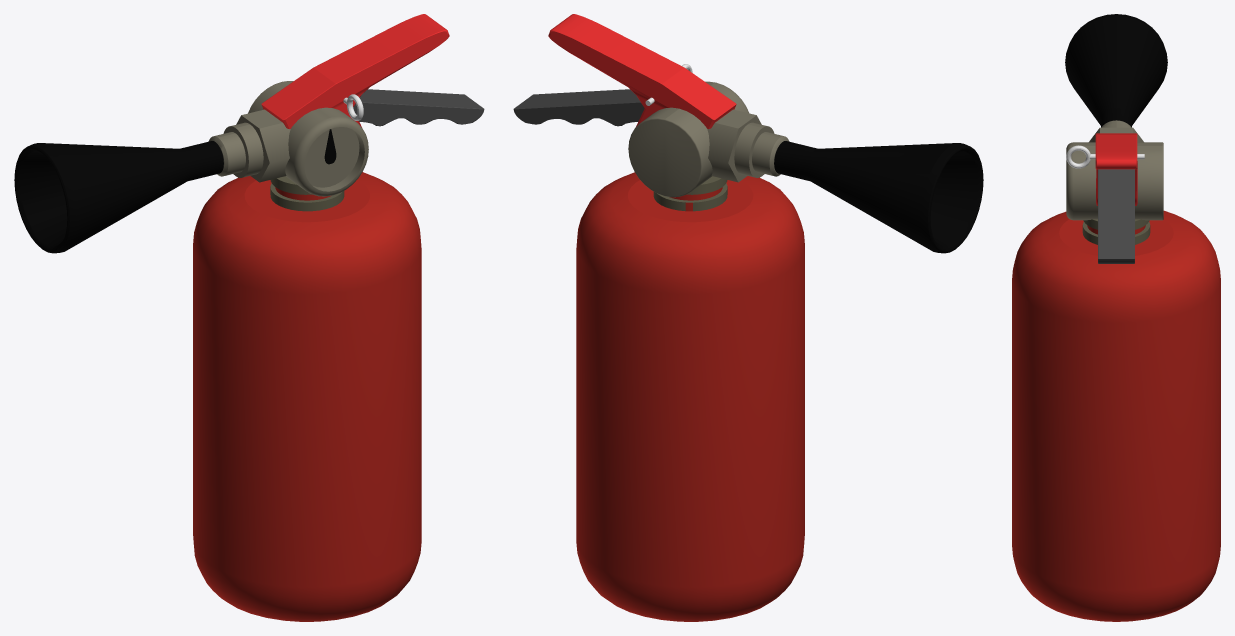
File: extinguisher.fbx
3 views of the same model, side by side, from view 1: azimuth 30°, elevation 25°; view 2: azimuth 150°, elevation 25°; view 3: azimuth 270°, elevation 25° (orthographic). The views are drawn at different scales.
Visible parts, largest first — view 1: Цилиндр.003, Куб.002, Куб.003; view 2: Цилиндр.003, Куб.002, Куб.003; view 3: Цилиндр.003, Куб.003, Куб.002, Torus.
Boxes of the visible parts, bbox=[...] form: Цилиндр.003: bbox=[14, 81, 421, 621]; Куб.002: bbox=[261, 14, 449, 128]; Куб.003: bbox=[353, 89, 484, 126]; Цилиндр.003: bbox=[576, 81, 983, 621]; Куб.002: bbox=[548, 14, 736, 129]; Куб.003: bbox=[513, 89, 644, 126]; Цилиндр.003: bbox=[1012, 14, 1220, 621]; Куб.003: bbox=[1098, 169, 1134, 263]; Куб.002: bbox=[1095, 133, 1137, 205]; Torus: bbox=[1066, 145, 1144, 168].
Size of the model in its own units: 437 by 515 by 200.
